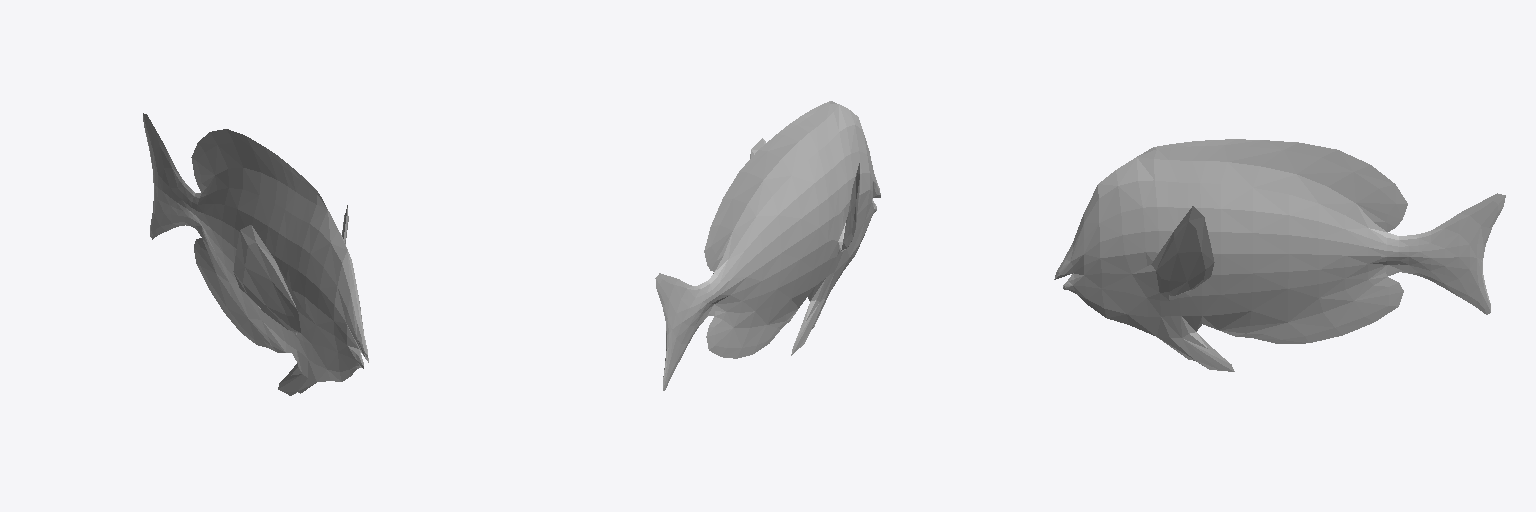
Rendered from BlueTang.obj.
The picture shows the model from 3 angles: view 1: azimuth 30°, elevation 25°; view 2: azimuth 150°, elevation 25°; view 3: azimuth 270°, elevation 25°; orthographic projection.
Parts seen in each view (by area): view 1: Plane; view 2: Plane; view 3: Plane.
Boxes of the visible parts, box(x1,y1,x2,y2) form: Plane: box(143, 113, 368, 395); Plane: box(655, 101, 880, 390); Plane: box(1054, 139, 1505, 371).
Size of the model in its own units: 2.38 by 4.78 by 8.39.